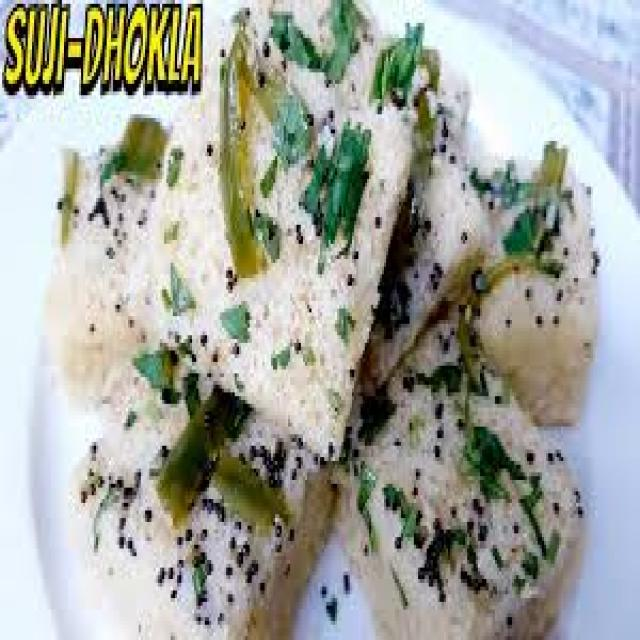DHOKLA: (149, 27, 410, 446), (341, 312, 582, 636), (81, 347, 335, 636), (450, 141, 597, 419)
